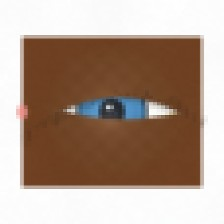pinguecula_lesion: (157, 103, 194, 133)
